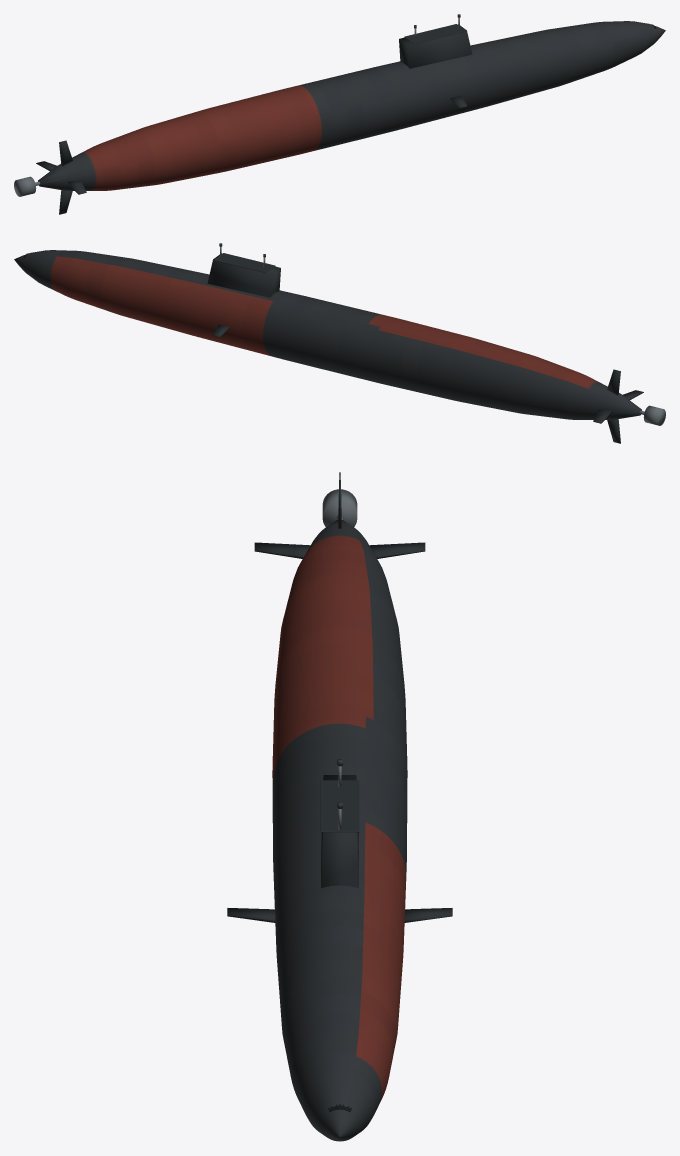
File: RU_SSN_YasenM_LOD1.fbx
The picture shows the model from 3 angles, top to bottom: view 1: azimuth 30°, elevation 25°; view 2: azimuth 150°, elevation 25°; view 3: azimuth 270°, elevation 25°; orthographic projection. The views are drawn at different scales.
Parts seen in each view (by area): view 1: RU_SSN_YasenM_LOD1; view 2: RU_SSN_YasenM_LOD1; view 3: RU_SSN_YasenM_LOD1.
Part boxes in pixels (left/top/right/bottom): RU_SSN_YasenM_LOD1: left=14, top=14, right=665, bottom=214; RU_SSN_YasenM_LOD1: left=14, top=243, right=665, bottom=443; RU_SSN_YasenM_LOD1: left=227, top=472, right=452, bottom=1141.
Bounding box in the file's own units: 144 × 21.65 × 21.71.
6 materials, 1 textured.
